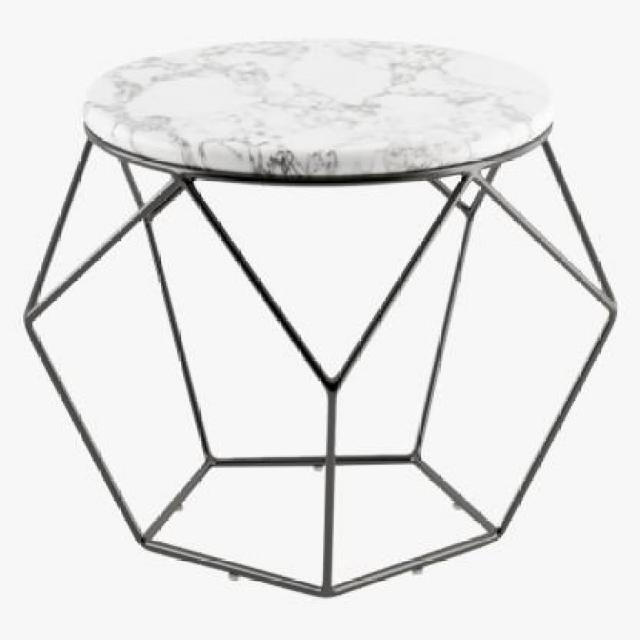table: (18, 44, 616, 594)
